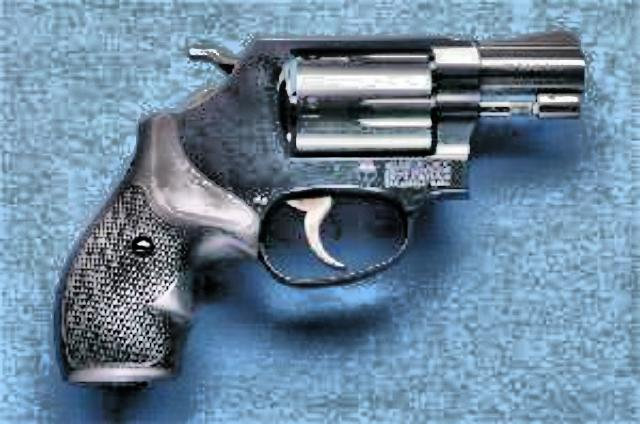pistol: (53, 22, 584, 388)
